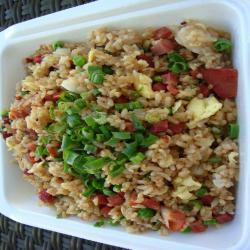rice: (25, 45, 216, 215)
